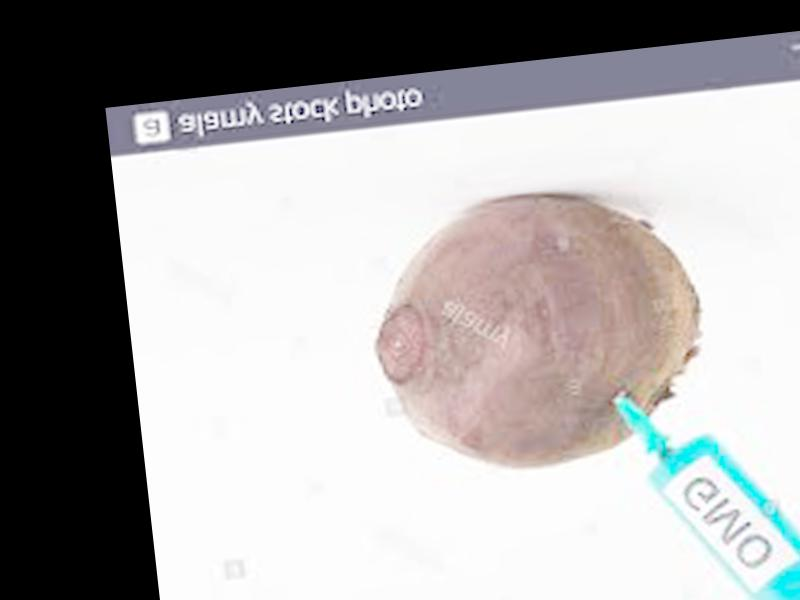Beet: (362, 176, 709, 484)
